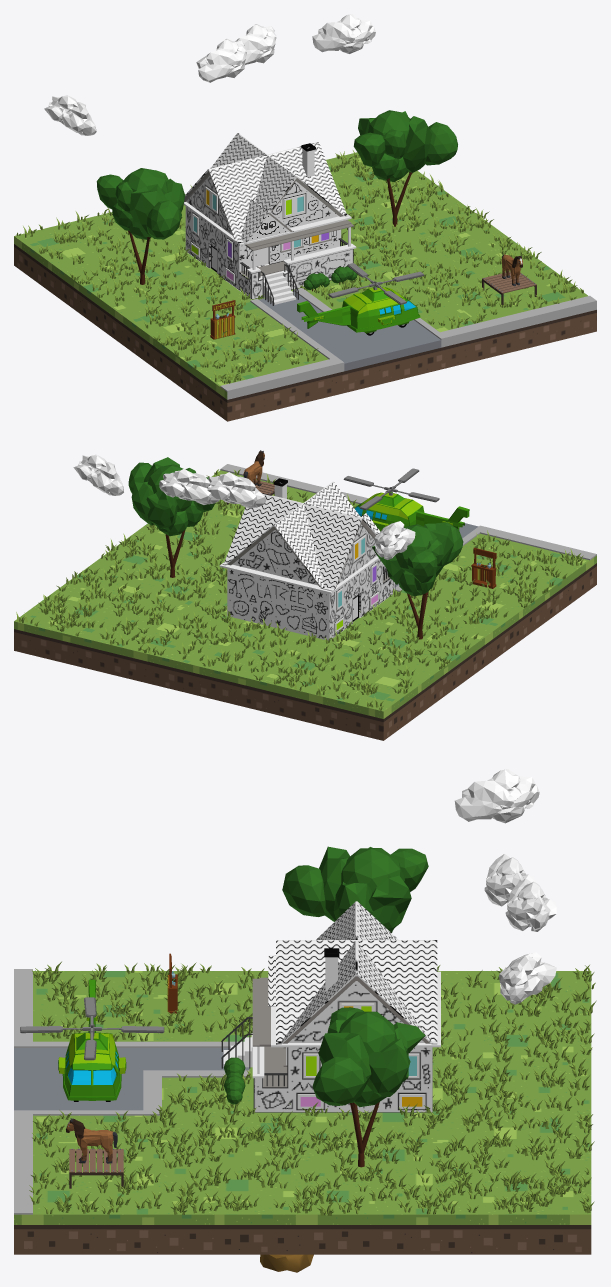
The picture shows the model from 3 angles, top to bottom: view 1: azimuth 30°, elevation 25°; view 2: azimuth 150°, elevation 25°; view 3: azimuth 270°, elevation 25°; orthographic projection. The views are drawn at different scales.
Visible parts, largest first — view 1: Cube.006, Cube.879, Circle.012_Grass_0.192, Cube.007, tree, tree.001, VEHICLES_HELICOPTER, OBJRANDOM_LEMONADE_STAND, Cube.009; view 2: Cube.006, Cube.879, Circle.012_Grass_0.192, Cube.007, tree.001, tree, VEHICLES_HELICOPTER, OBJRANDOM_LEMONADE_STAND, ANIMAL_CABALLO; view 3: Cube.006, Circle.012_Grass_0.192, Cube.879, tree, Cube.007, tree.001, VEHICLES_HELICOPTER, Cube.009, ANIMAL_CABALLO, UNDERGROUND_T_REX_BONES.
Boxes of the visible parts, x1=… form: Cube.006: x1=14, y1=152, x2=596, y2=421; Cube.879: x1=183, y1=133, x2=356, y2=305; Circle.012_Grass_0.192: x1=16, y1=150, x2=583, y2=383; Cube.007: x1=44, y1=14, x2=375, y2=135; tree: x1=353, y1=110, x2=457, y2=226; tree.001: x1=96, y1=168, x2=184, y2=284; VEHICLES_HELICOPTER: x1=297, y1=263, x2=424, y2=335; OBJRANDOM_LEMONADE_STAND: x1=210, y1=300, x2=235, y2=339; Cube.009: x1=482, y1=271, x2=536, y2=304; Cube.006: x1=14, y1=464, x2=596, y2=740; Cube.879: x1=219, y1=478, x2=395, y2=640; Circle.012_Grass_0.192: x1=16, y1=469, x2=583, y2=710; Cube.007: x1=73, y1=454, x2=415, y2=559; tree.001: x1=372, y1=522, x2=463, y2=639; tree: x1=128, y1=457, x2=215, y2=577; VEHICLES_HELICOPTER: x1=343, y1=468, x2=469, y2=531; OBJRANDOM_LEMONADE_STAND: x1=471, y1=547, x2=496, y2=588; ANIMAL_CABALLO: x1=243, y1=450, x2=264, y2=486; Cube.006: x1=14, y1=969, x2=591, y2=1254; Circle.012_Grass_0.192: x1=29, y1=961, x2=596, y2=1215; Cube.879: x1=221, y1=901, x2=440, y2=1112; tree: x1=312, y1=1007, x2=425, y2=1167; Cube.007: x1=454, y1=769, x2=556, y2=1004; tree.001: x1=282, y1=846, x2=428, y2=932; VEHICLES_HELICOPTER: x1=20, y1=979, x2=164, y2=1101; Cube.009: x1=69, y1=1148, x2=123, y2=1188; ANIMAL_CABALLO: x1=66, y1=1118, x2=117, y2=1163; UNDERGROUND_T_REX_BONES: x1=260, y1=1254, x2=313, y2=1272.
Size of the model in its own units: 4071 by 2289 by 4040.
Materials: 44 (10 with a texture image).
